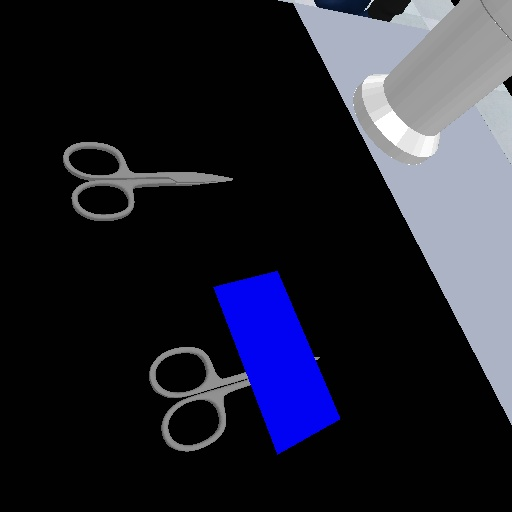tijera: (59, 137, 237, 224), (147, 343, 253, 456)
